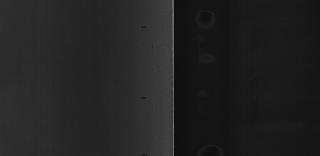oil spot: (135, 21, 149, 35), (140, 90, 152, 104)
